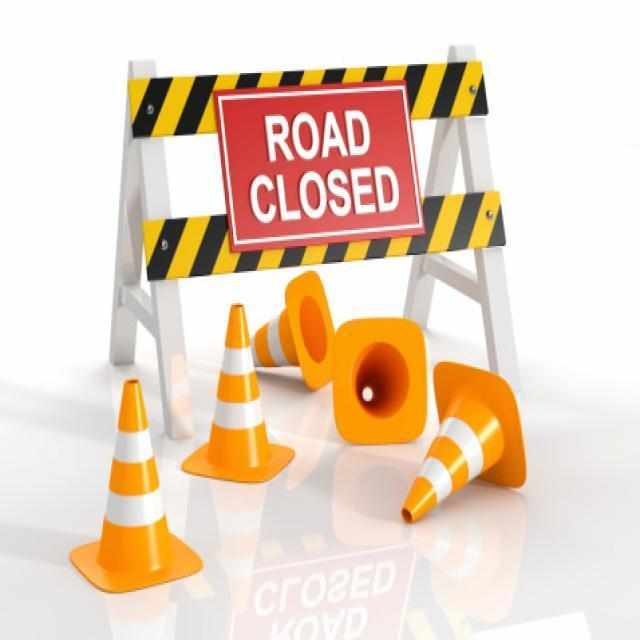traffic cone: (69, 379, 203, 595), (181, 303, 296, 485)
